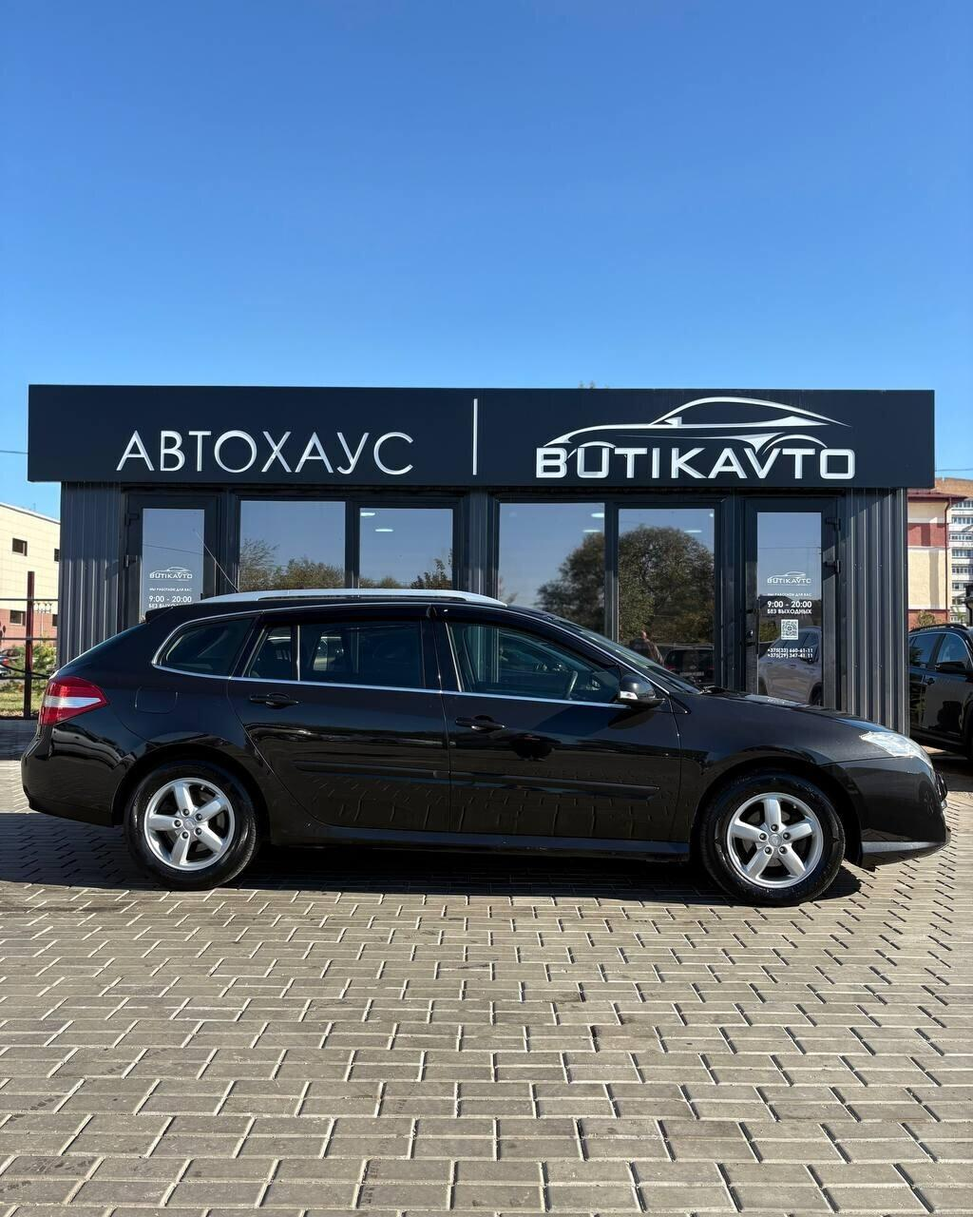Laguna_2007-2011: (22, 589, 948, 905)
